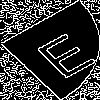E: (24, 24, 100, 80)
